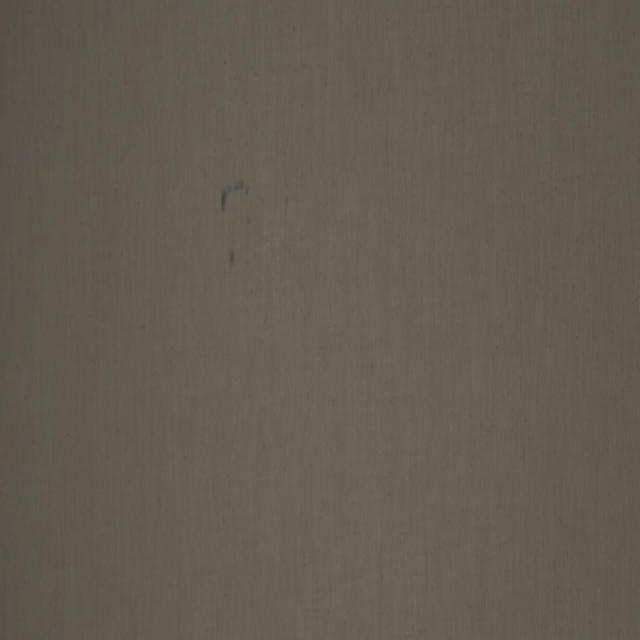dirty: (220, 181, 250, 205), (227, 249, 236, 267)
